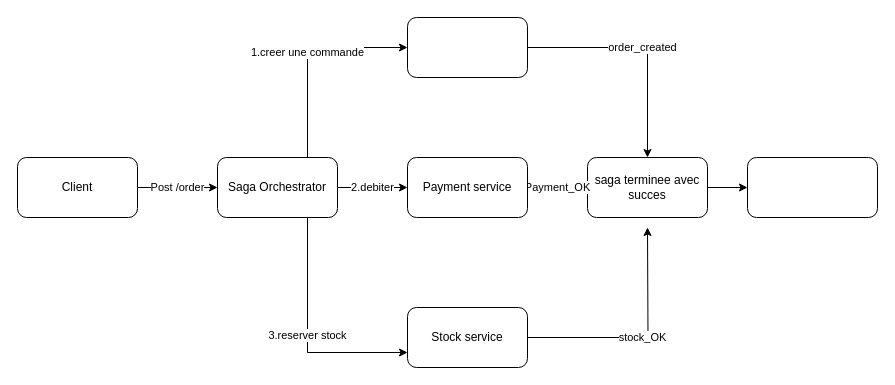
Some shapes in this 895 by 385 pixel diagram are drawn without their labels. The centre of each missing label's shape, as x and y in pixels:
Commande confirmee: (812,187)
Order service: (467,47)
